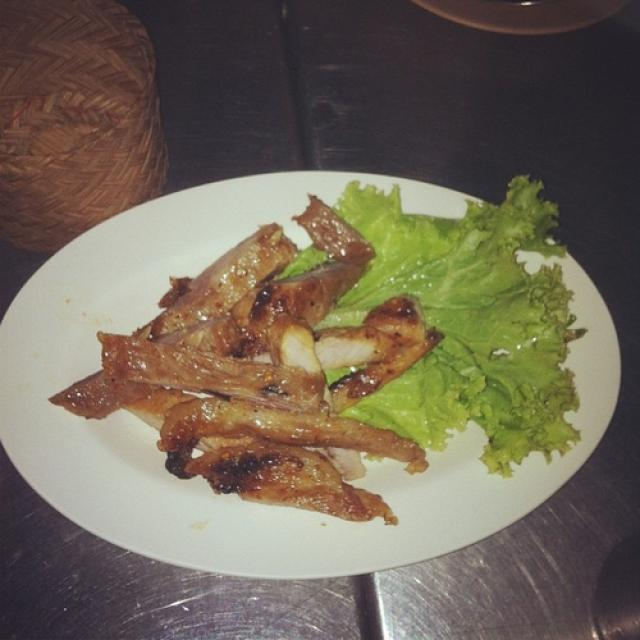猪肉菜式: (45, 212, 439, 522)
